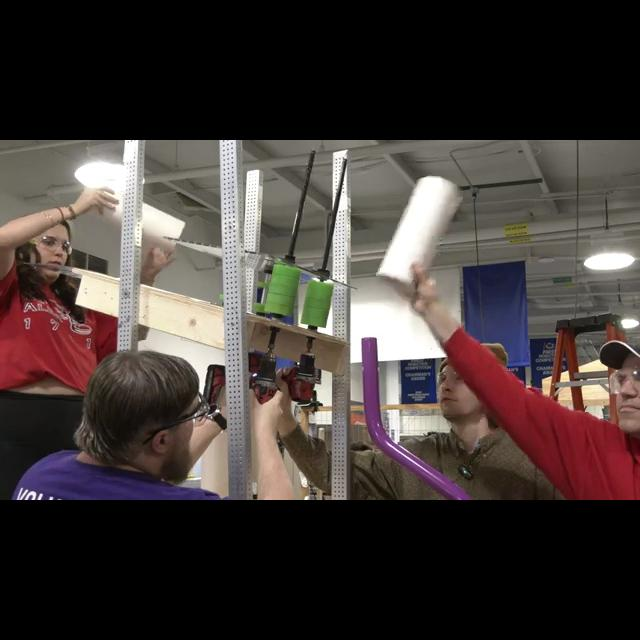CORAL: (373, 172, 462, 288), (100, 196, 186, 248)
